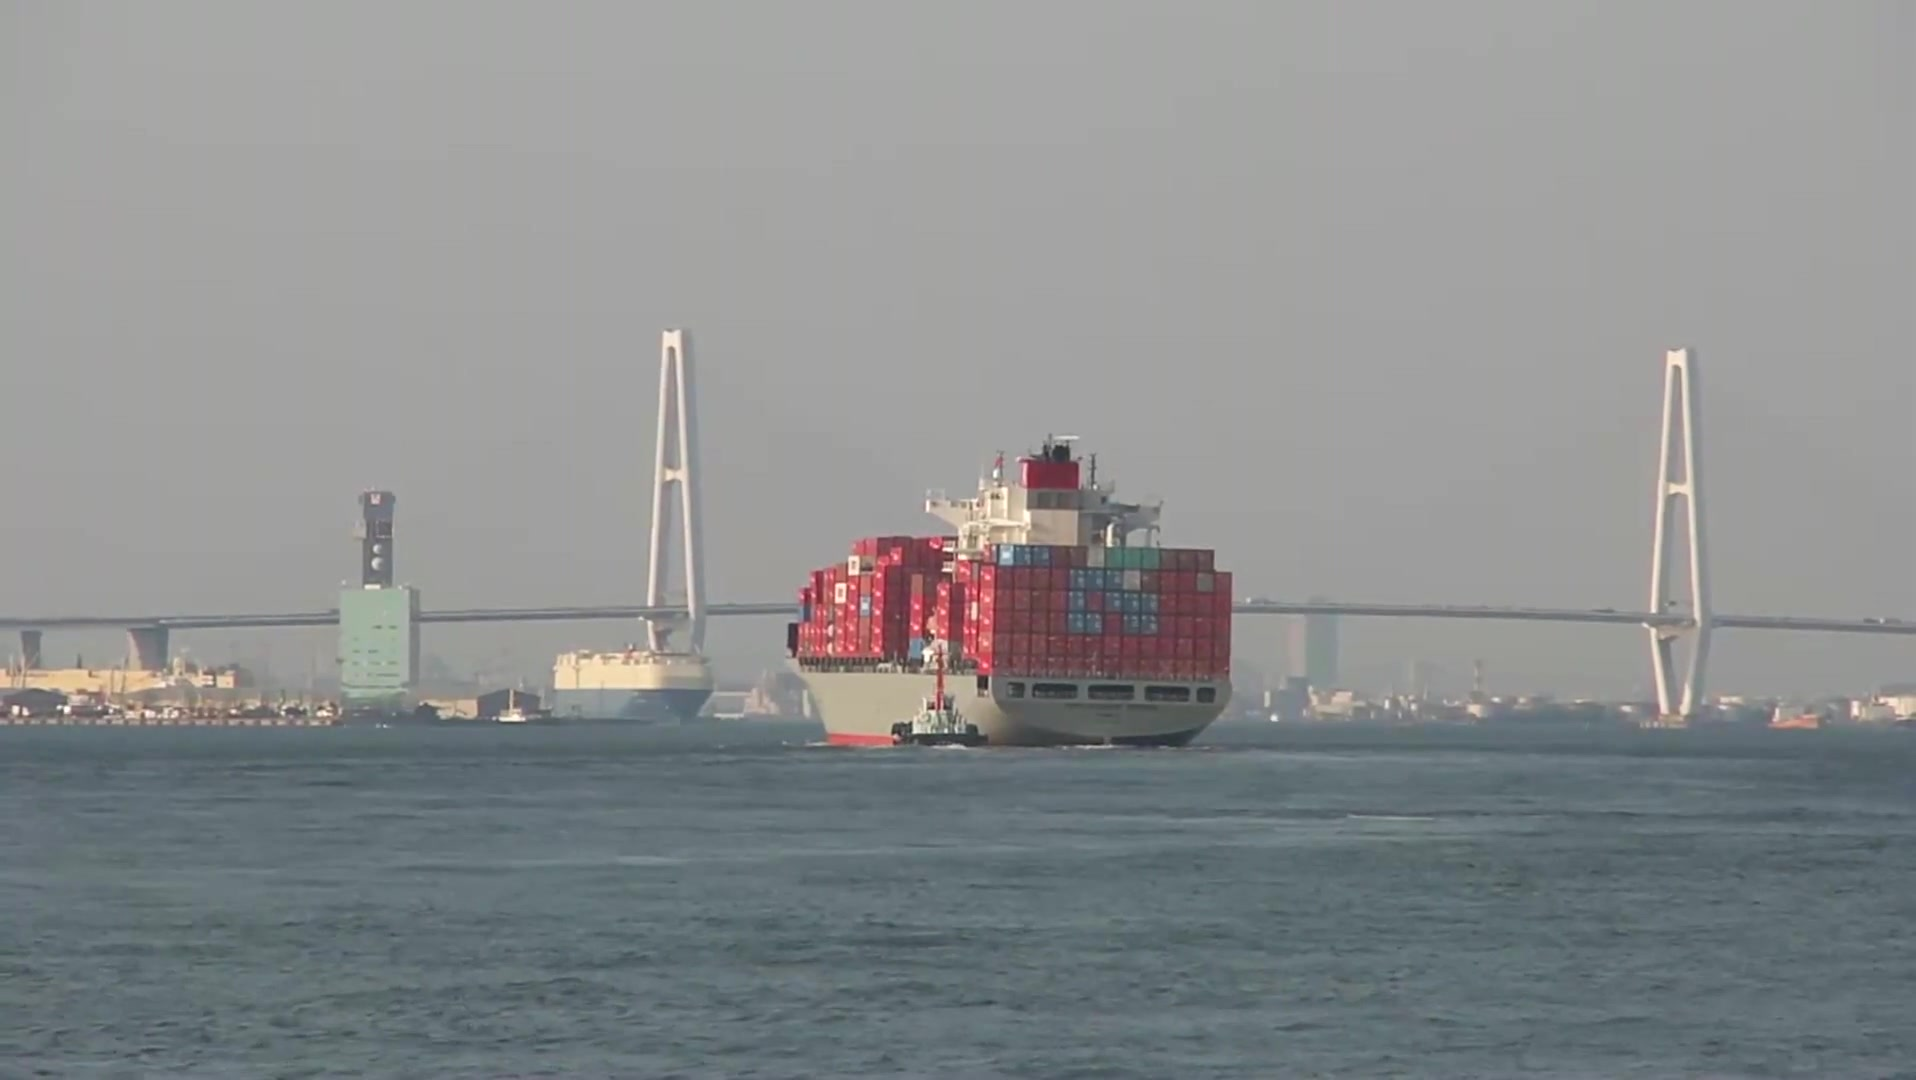boat: (783, 434, 1238, 749), (534, 641, 718, 727), (900, 651, 999, 759), (705, 681, 822, 741)
